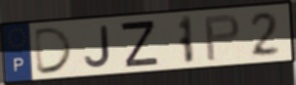1: (176, 13, 197, 67)
2: (248, 10, 283, 60)
D: (33, 25, 76, 77)
J: (82, 24, 113, 69)
P: (202, 12, 243, 63)
Z: (118, 19, 161, 69)
